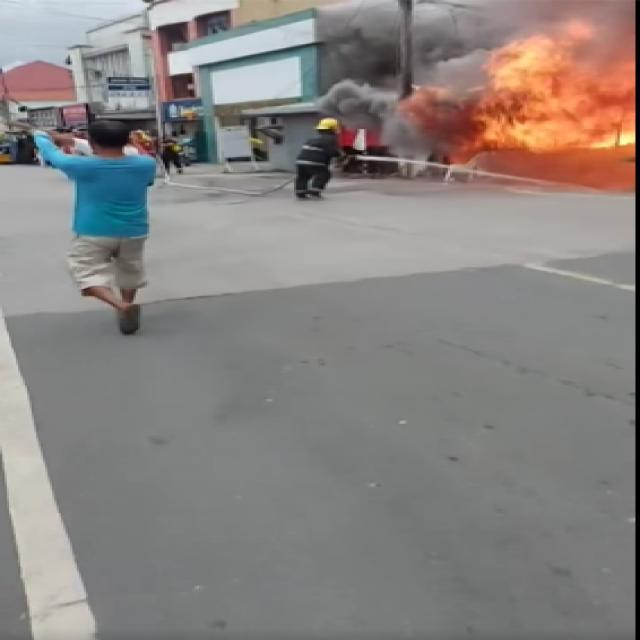Fire: (475, 40, 640, 160)
Smoke: (344, 8, 505, 150)
